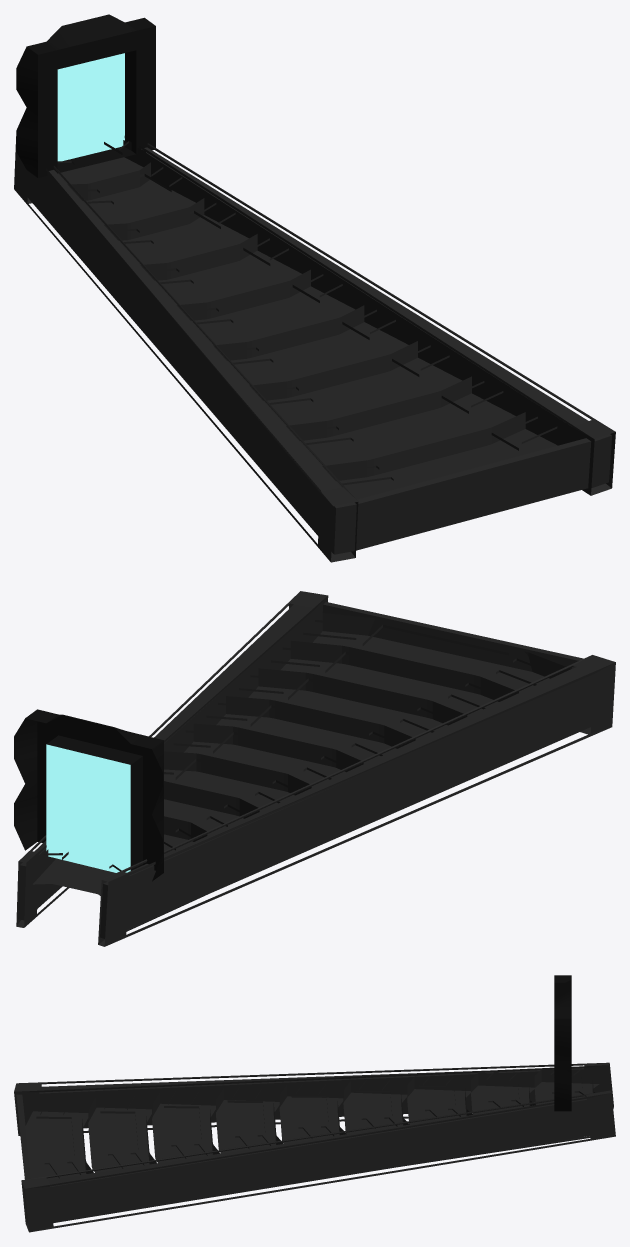
Rendered from door-to-about.glb.
3 renders of one model, top to bottom at view 1: azimuth 30°, elevation 25°; view 2: azimuth 150°, elevation 25°; view 3: azimuth 270°, elevation 25°, orthographic. The views are drawn at different scales.
Parts seen in each view (by area): view 1: Cube.010_Material.013_0.001, portal_blocking, portal_blocking_Material.001_0.001; view 2: Cube.010_Material.013_0.001, portal_blocking, portal_blocking_Material.001_0.001; view 3: Cube.010_Material.013_0.001, portal_blocking.
Boxes of the visible parts, bbox=[...] form: Cube.010_Material.013_0.001: bbox=[14, 136, 615, 562]; portal_blocking: bbox=[16, 14, 155, 177]; portal_blocking_Material.001_0.001: bbox=[57, 53, 124, 161]; Cube.010_Material.013_0.001: bbox=[16, 591, 615, 946]; portal_blocking: bbox=[14, 709, 163, 881]; portal_blocking_Material.001_0.001: bbox=[46, 744, 130, 872]; Cube.010_Material.013_0.001: bbox=[14, 1062, 615, 1232]; portal_blocking: bbox=[554, 975, 571, 1111].
Size of the model in its own units: 67.12 by 54.42 by 162.
